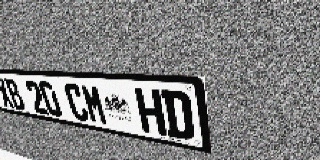0: (37, 81, 63, 117)
2: (24, 80, 49, 115)
B: (3, 78, 27, 111)
C: (62, 83, 90, 122)
D: (161, 90, 195, 141)
H: (134, 88, 167, 136)
M: (80, 84, 109, 126)
X: (0, 78, 16, 109)
